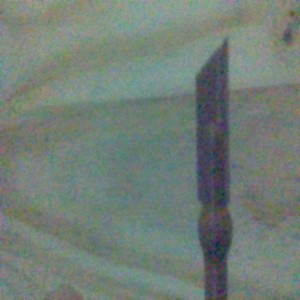cutter: (193, 38, 235, 300)
